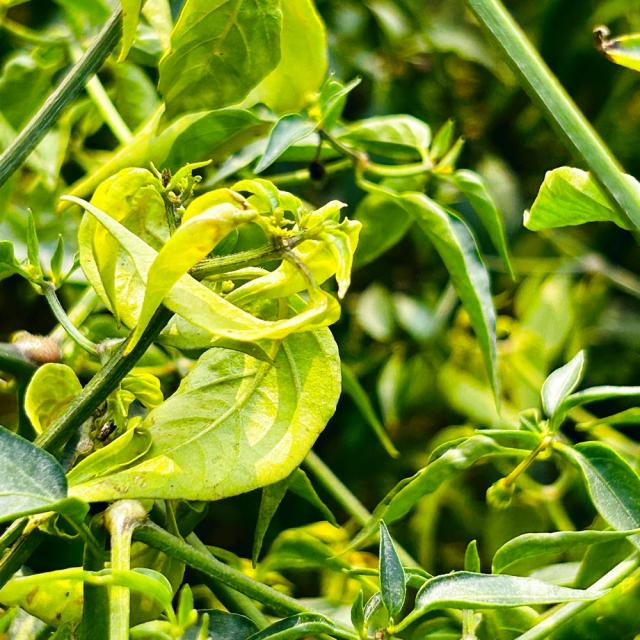Chilli_Leaf_Curl: (1, 0, 638, 638), (23, 163, 361, 506), (68, 171, 362, 365), (63, 321, 343, 503), (464, 0, 638, 238), (352, 169, 503, 414), (521, 164, 637, 236)
